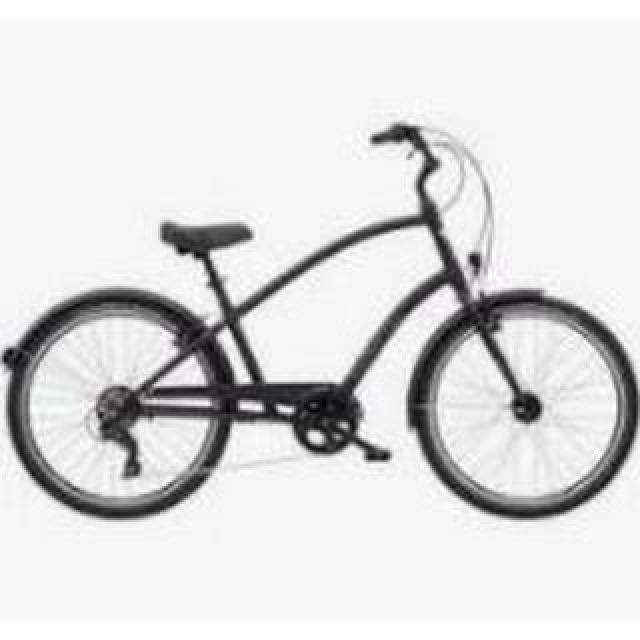Person: (0, 120, 636, 524)
